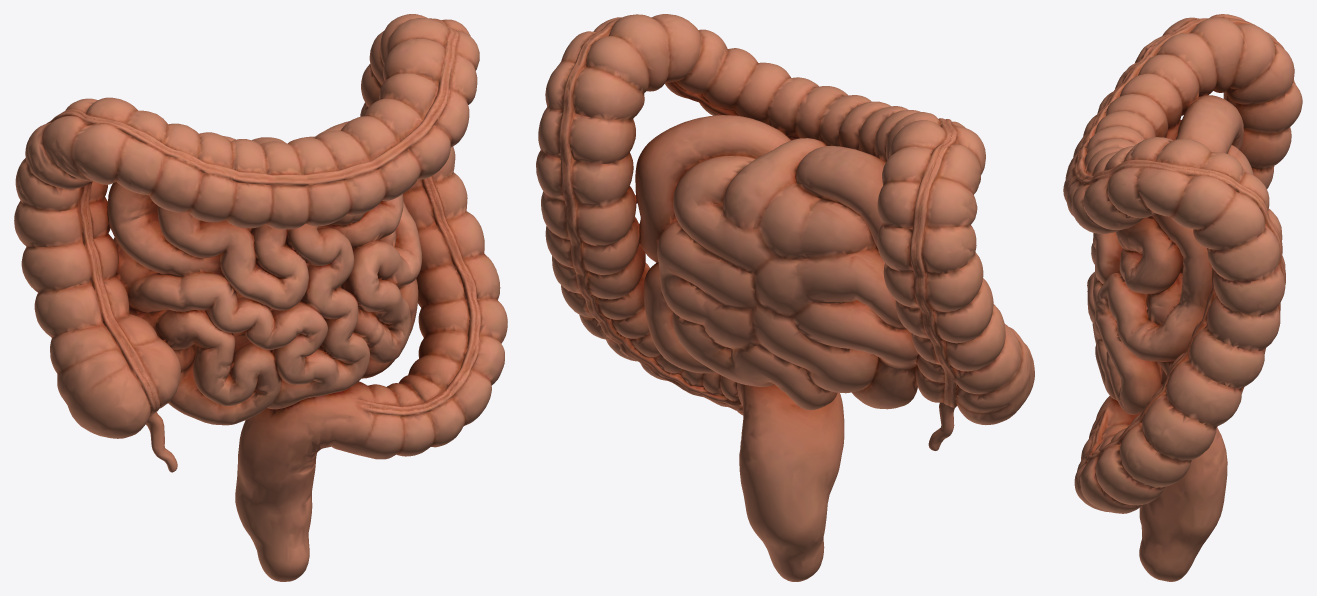
File: intestine.glb
3 renders of one model, left to right at view 1: azimuth 30°, elevation 25°; view 2: azimuth 150°, elevation 25°; view 3: azimuth 270°, elevation 25°, orthographic. The views are drawn at different scales.
Visible parts, largest first — view 1: tripo_node_62b379d0-ce68-4c4f-9391-eb1f11136f30; view 2: tripo_node_62b379d0-ce68-4c4f-9391-eb1f11136f30; view 3: tripo_node_62b379d0-ce68-4c4f-9391-eb1f11136f30.
Part boxes in pixels (box(x1,y1,x2,y2)): tripo_node_62b379d0-ce68-4c4f-9391-eb1f11136f30: box(14, 14, 507, 581); tripo_node_62b379d0-ce68-4c4f-9391-eb1f11136f30: box(536, 14, 1034, 581); tripo_node_62b379d0-ce68-4c4f-9391-eb1f11136f30: box(1063, 14, 1302, 581).
Bounding box in the file's own units: 29033 × 32763 × 13986.
Materials: 1 (1 with a texture image).
